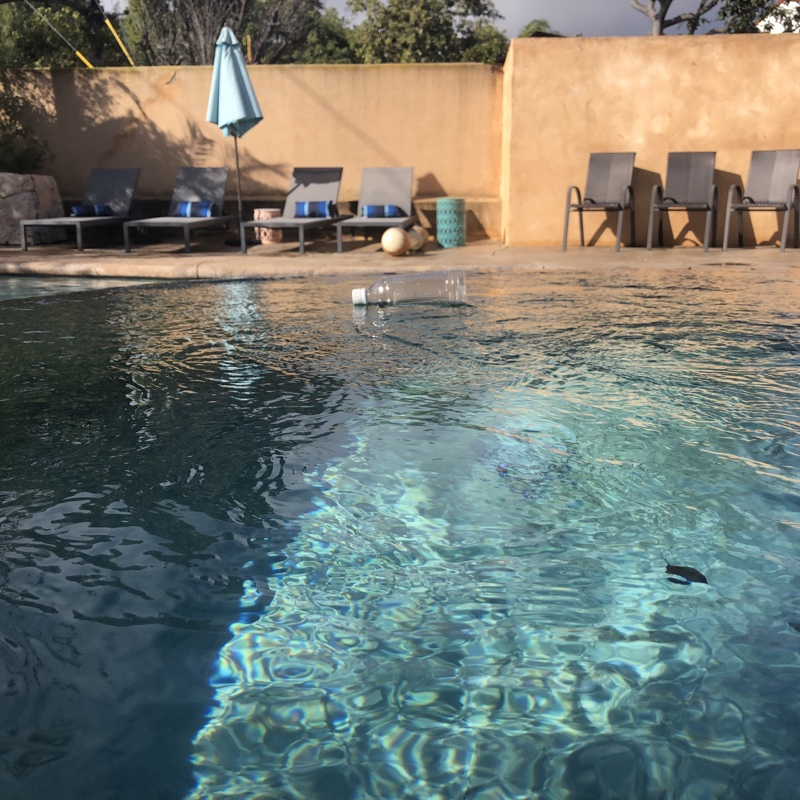Plastic Bottle: (347, 267, 470, 310)
